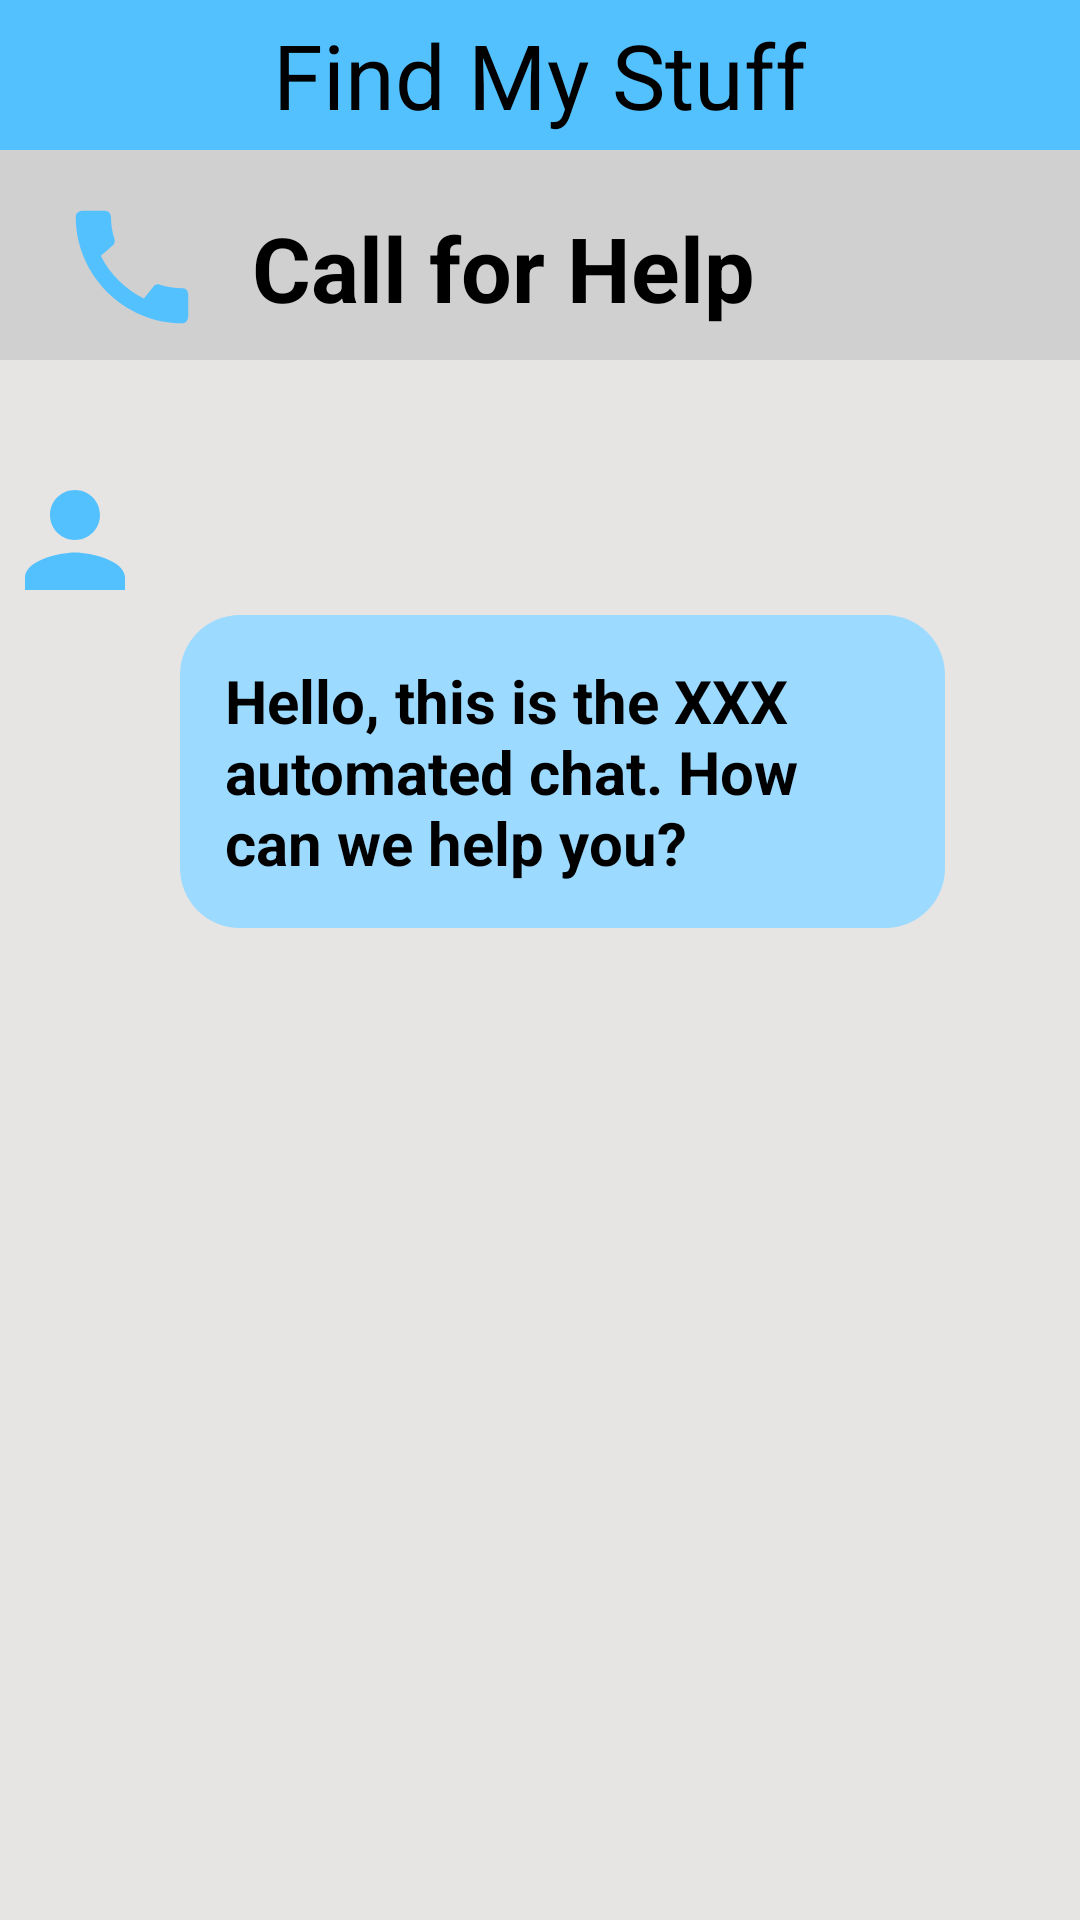

Where icons sit on this 1080px×1920px app screen, as (x1, y1, x2, y2):
person: (25, 490, 125, 590)
